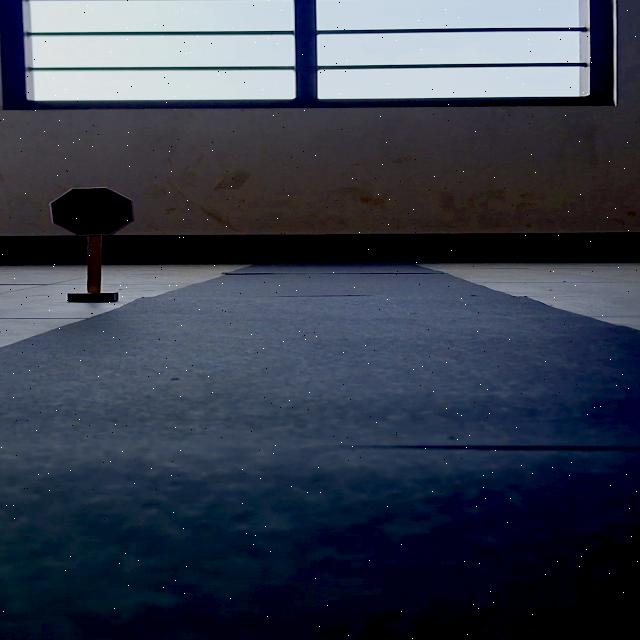Stop: (48, 186, 134, 236)
